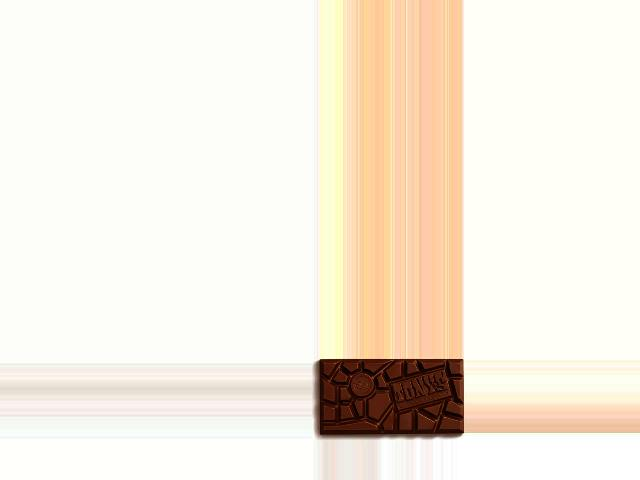chocolate: (318, 359, 464, 438)
